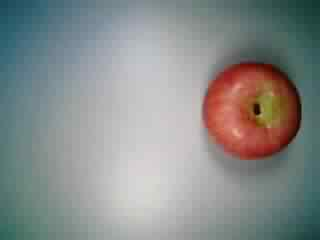apple: (202, 61, 306, 162)
